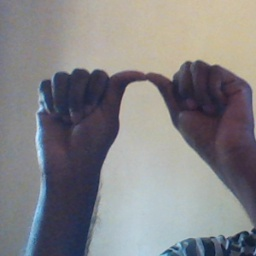A: (32, 58, 256, 175)
